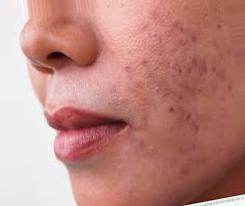Acne: (169, 42, 223, 93), (144, 9, 197, 49), (191, 1, 236, 38), (134, 57, 168, 97), (165, 143, 201, 175), (158, 99, 186, 124), (99, 59, 136, 76), (181, 106, 199, 129)
